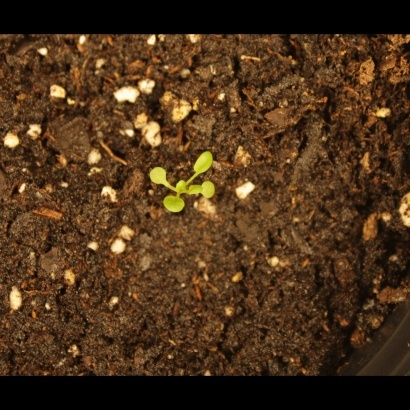leaf: (190, 150, 216, 178), (161, 194, 188, 217), (147, 166, 170, 189), (196, 180, 219, 203)
